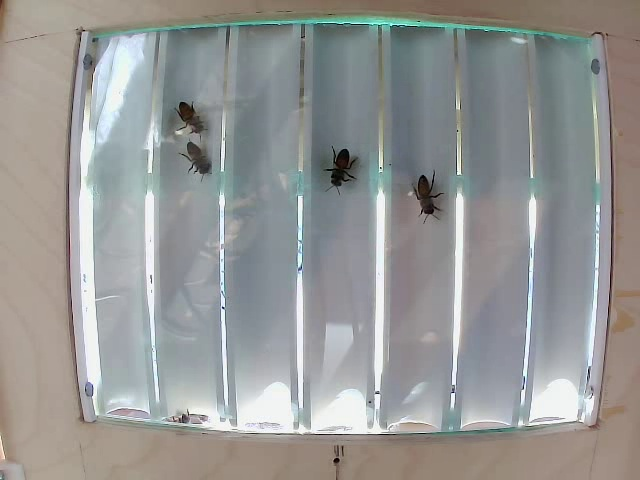bee: (168, 100, 208, 139), (326, 138, 350, 176), (183, 146, 209, 178), (417, 174, 427, 203)
